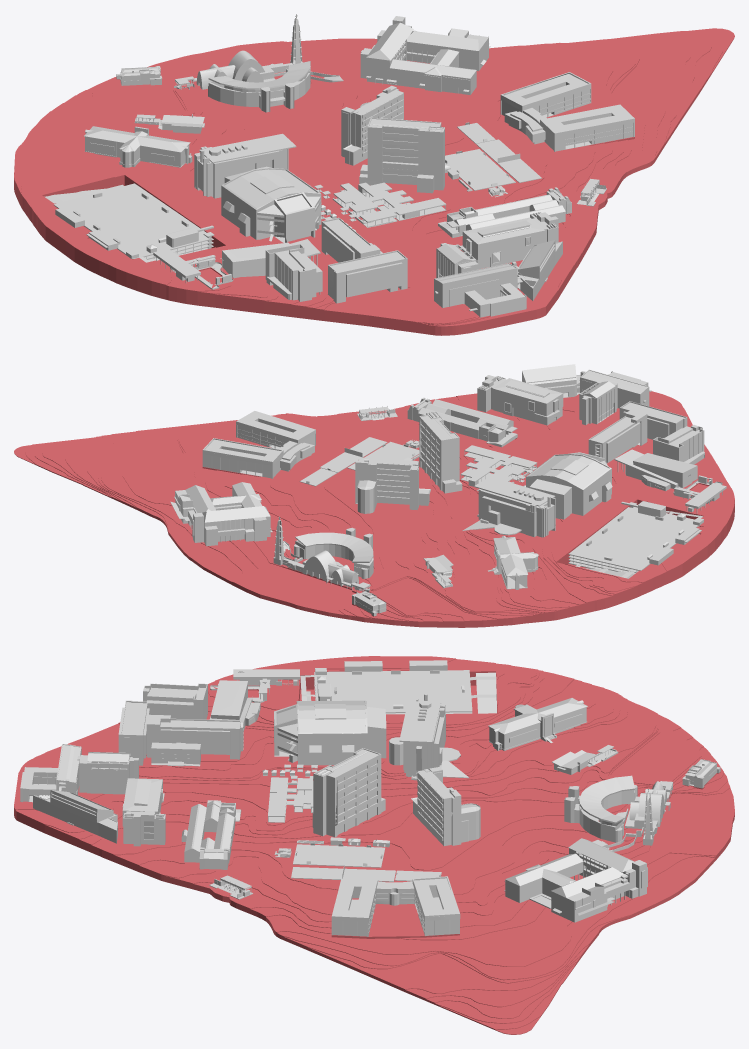
The model's file is TerrenoReferenciaSecciones.fbx.
The picture shows the model from 3 angles, top to bottom: view 1: azimuth 30°, elevation 25°; view 2: azimuth 150°, elevation 25°; view 3: azimuth 270°, elevation 25°; orthographic projection. The views are drawn at different scales.
Visible parts, largest first — view 1: Retopo.086, Retopo.088, Retopo.087, Retopo.089, MAQUETA UPB con terreno.001, MAQUETA UPB con terreno.036, MAQUETA UPB con terreno.035, MAQUETA UPB con terreno.024, MAQUETA UPB con terreno.003, MAQUETA UPB con terreno.021, MAQUETA UPB con terreno.014, MAQUETA UPB con terreno.007 (+14 smaller); view 2: Retopo.086, Retopo.087, Retopo.088, MAQUETA UPB con terreno.001, Retopo.089, MAQUETA UPB con terreno.035, MAQUETA UPB con terreno.036, MAQUETA UPB con terreno.024, MAQUETA UPB con terreno.003, MAQUETA UPB con terreno.007, MAQUETA UPB con terreno.020, MAQUETA UPB con terreno.014 (+15 smaller); view 3: Retopo.087, Retopo.086, Retopo.088, Retopo.089, MAQUETA UPB con terreno.001, MAQUETA UPB con terreno.036, MAQUETA UPB con terreno.024, MAQUETA UPB con terreno.003, MAQUETA UPB con terreno.014, MAQUETA UPB con terreno.035, MAQUETA UPB con terreno.021, MAQUETA UPB con terreno.030 (+13 smaller).
Boxes of the visible parts, x1,y1,x2,y2 form: Retopo.086: [14, 44, 367, 252]; Retopo.088: [62, 172, 567, 335]; Retopo.087: [247, 28, 734, 152]; Retopo.089: [445, 95, 696, 283]; MAQUETA UPB con terreno.001: [44, 183, 214, 262]; MAQUETA UPB con terreno.036: [360, 16, 490, 94]; MAQUETA UPB con terreno.035: [500, 72, 634, 151]; MAQUETA UPB con terreno.024: [434, 240, 562, 317]; MAQUETA UPB con terreno.003: [221, 167, 321, 242]; MAQUETA UPB con terreno.021: [359, 117, 444, 193]; MAQUETA UPB con terreno.014: [321, 217, 407, 303]; MAQUETA UPB con terreno.007: [194, 133, 296, 198]; Retopo.086: [255, 494, 696, 627]; Retopo.087: [14, 430, 359, 595]; Retopo.088: [419, 391, 734, 565]; MAQUETA UPB con terreno.001: [568, 501, 703, 578]; Retopo.089: [148, 393, 497, 476]; MAQUETA UPB con terreno.035: [202, 411, 315, 478]; MAQUETA UPB con terreno.036: [170, 482, 272, 546]; MAQUETA UPB con terreno.024: [522, 364, 651, 425]; MAQUETA UPB con terreno.003: [526, 452, 612, 519]; MAQUETA UPB con terreno.007: [462, 476, 555, 537]; MAQUETA UPB con terreno.020: [355, 457, 430, 513]; MAQUETA UPB con terreno.014: [588, 401, 687, 464]; Retopo.087: [395, 837, 728, 1034]; Retopo.086: [395, 656, 734, 843]; Retopo.088: [14, 656, 395, 844]; Retopo.089: [72, 836, 395, 987]; MAQUETA UPB con terreno.001: [300, 660, 496, 714]; MAQUETA UPB con terreno.036: [504, 838, 647, 922]; MAQUETA UPB con terreno.024: [20, 744, 138, 843]; MAQUETA UPB con terreno.003: [274, 700, 386, 765]; MAQUETA UPB con terreno.014: [118, 700, 243, 766]; MAQUETA UPB con terreno.035: [331, 876, 460, 936]; MAQUETA UPB con terreno.021: [312, 748, 385, 837]; MAQUETA UPB con terreno.030: [291, 837, 441, 881].
Bounding box in the file's own units: 61280 × 5390 × 51374.
